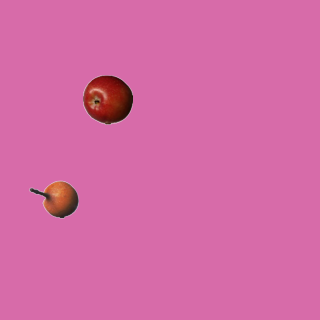Apple Braeburn: (82, 74, 132, 124)
Granadilla: (28, 174, 78, 224)
